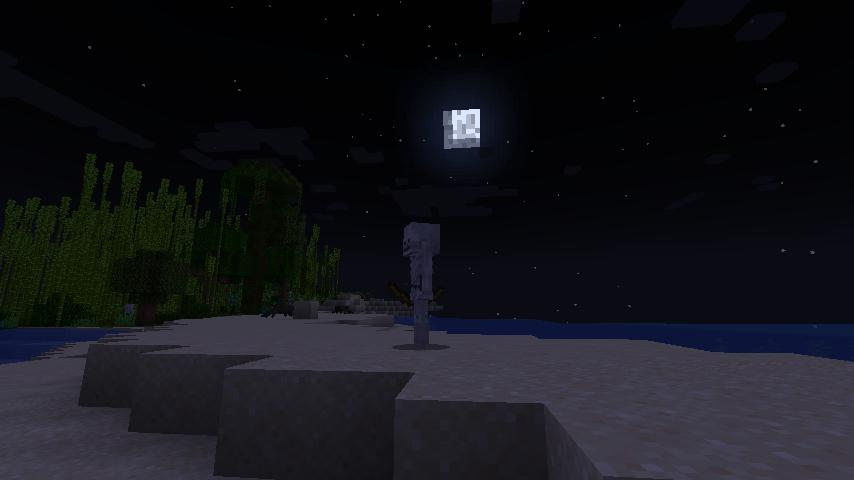skeleton: (395, 220, 445, 349)
spider: (261, 301, 294, 321), (332, 303, 353, 316)
